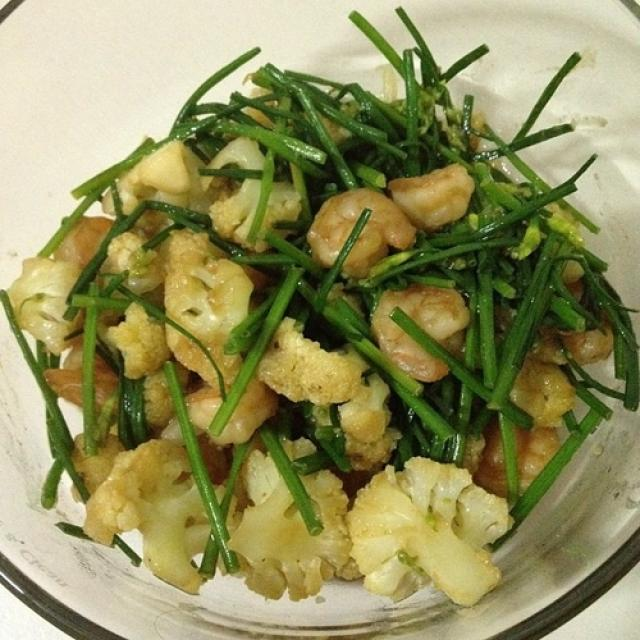蔬菜料理: (8, 42, 620, 602)
